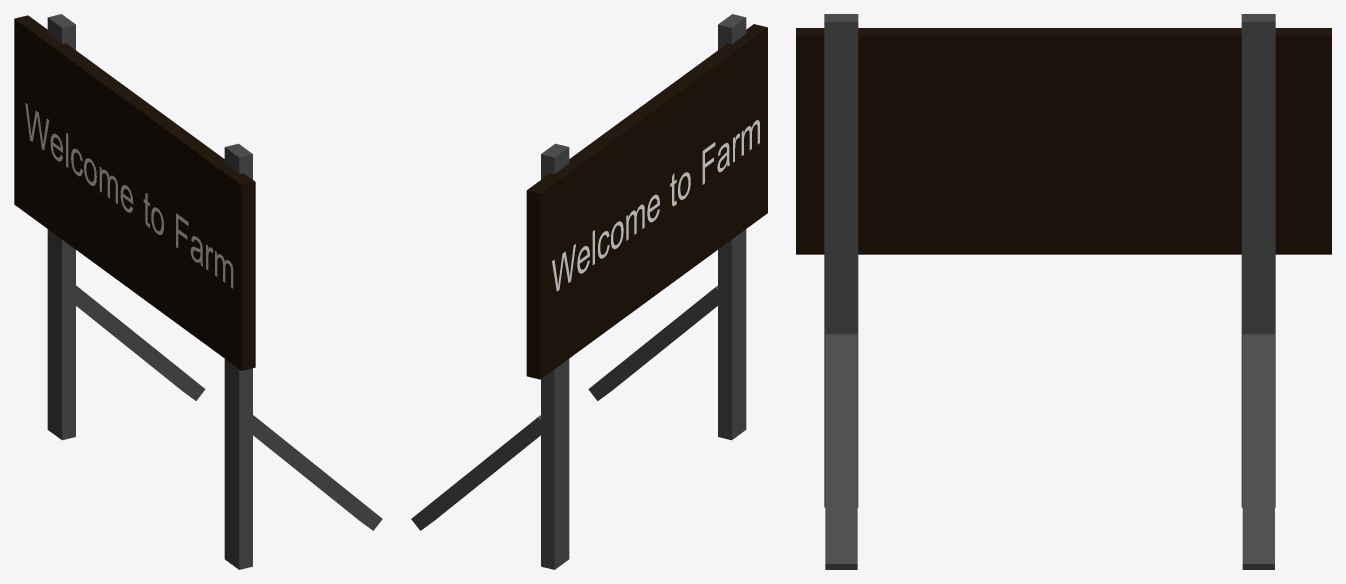
Rendered from Welcome.fbx.
The picture shows the model from 3 angles, left to right: view 1: azimuth 30°, elevation 25°; view 2: azimuth 150°, elevation 25°; view 3: azimuth 270°, elevation 25°; orthographic projection. The views are drawn at different scales.
Parts seen in each view (by area): view 1: Box003, Box001, Box002, Box004, Box005, TextPlus001; view 2: Box003, Box001, Box002, Box005, Box004, TextPlus001; view 3: Box003, Box001, Box002, Box004, Box005.
Part boxes in pixels (<box>): Box003: <box>14,15,255,370</box>; Box001: <box>224,143,252,569</box>; Box002: <box>47,14,75,440</box>; Box004: <box>253,415,382,530</box>; Box005: <box>76,285,205,400</box>; TextPlus001: <box>25,103,233,288</box>; Box003: <box>526,24,767,379</box>; Box001: <box>718,14,746,440</box>; Box002: <box>541,143,569,569</box>; Box005: <box>411,415,540,530</box>; Box004: <box>588,285,717,400</box>; TextPlus001: <box>552,120,759,291</box>; Box003: <box>796,28,1331,254</box>; Box001: <box>824,14,858,507</box>; Box002: <box>1241,14,1275,507</box>; Box004: <box>825,334,857,569</box>; Box005: <box>1242,334,1274,569</box>.
Size of the model in its own units: 22.71 by 58.21 by 58.21.
